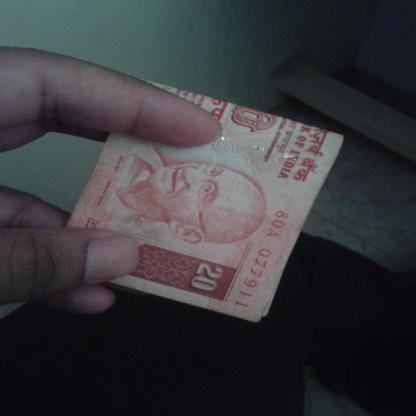Old20Front: (78, 83, 336, 303)
